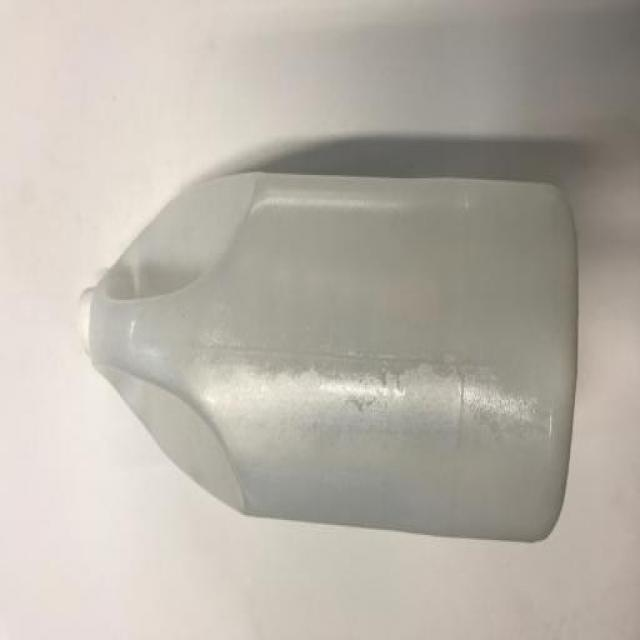Waste: (85, 173, 578, 541)
